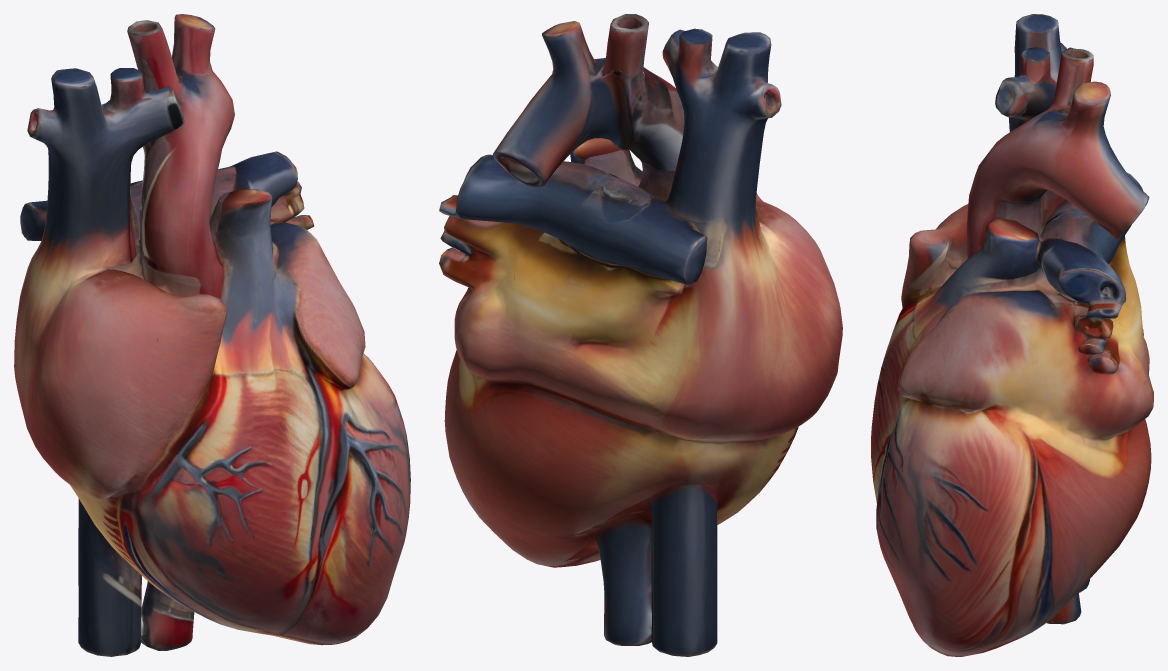
File: Meshy_AI_Anatomical_Heart_Mode_1225111650_texture_opt.glb
The picture shows the model from 3 angles, left to right: view 1: azimuth 30°, elevation 25°; view 2: azimuth 150°, elevation 25°; view 3: azimuth 270°, elevation 25°; orthographic projection. The views are drawn at different scales.
Size of the model in its own units: 1.21 by 2.01 by 0.9222.
1 material, 1 textured.
